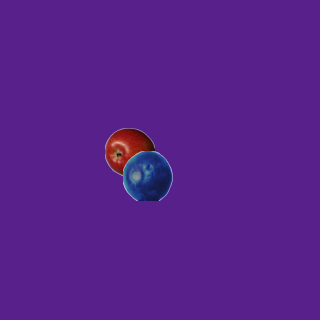Apple Braeburn: (104, 127, 154, 177)
Huckleberry: (122, 150, 172, 200)
